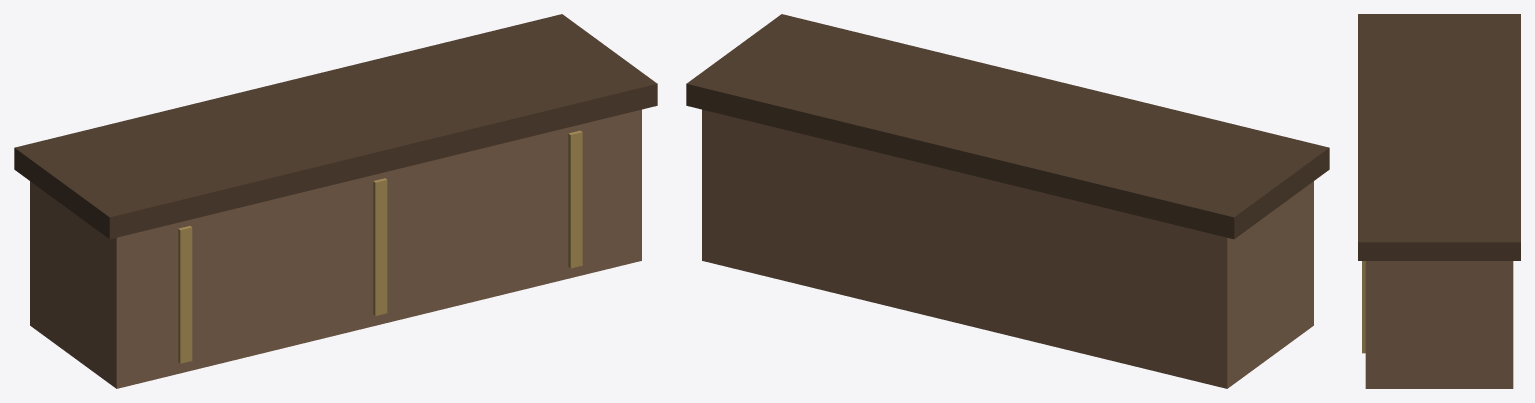
Rendered from room_counter.glb.
The picture shows the model from 3 angles, left to right: view 1: azimuth 30°, elevation 25°; view 2: azimuth 150°, elevation 25°; view 3: azimuth 270°, elevation 25°; orthographic projection. The views are drawn at different scales.
Parts seen in each view (by area): view 1: counter-body, countertop, panel, panel.001, panel.002; view 2: counter-body, countertop; view 3: countertop, counter-body, panel.002.
Boxes of the visible parts, bbox=[...] form: counter-body: bbox=[30, 109, 641, 388]; countertop: bbox=[14, 14, 657, 239]; panel: bbox=[178, 226, 192, 363]; panel.001: bbox=[373, 178, 387, 315]; panel.002: bbox=[568, 130, 582, 268]; counter-body: bbox=[702, 109, 1313, 388]; countertop: bbox=[686, 14, 1329, 239]; countertop: bbox=[1358, 14, 1520, 260]; counter-body: bbox=[1365, 261, 1513, 388]; panel.002: bbox=[1362, 261, 1365, 353].
Size of the model in its own units: 3.65 by 1.13 by 1.1.
